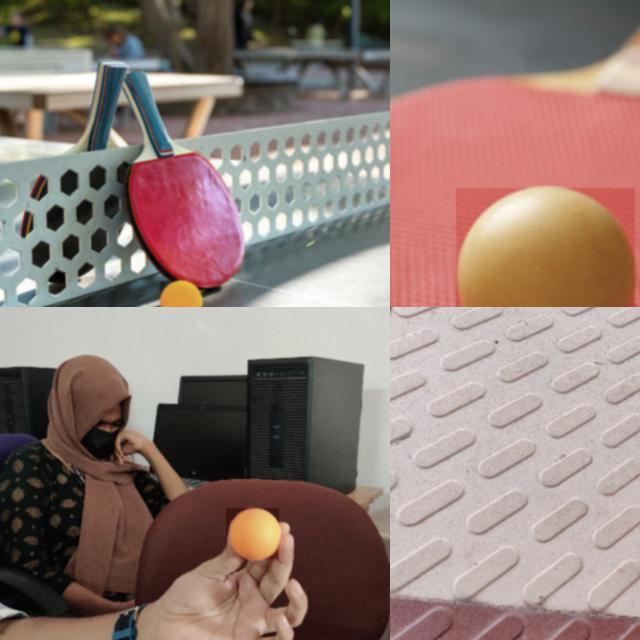ping-pong-ball: (456, 188, 636, 306), (226, 508, 280, 560), (160, 280, 202, 306)
